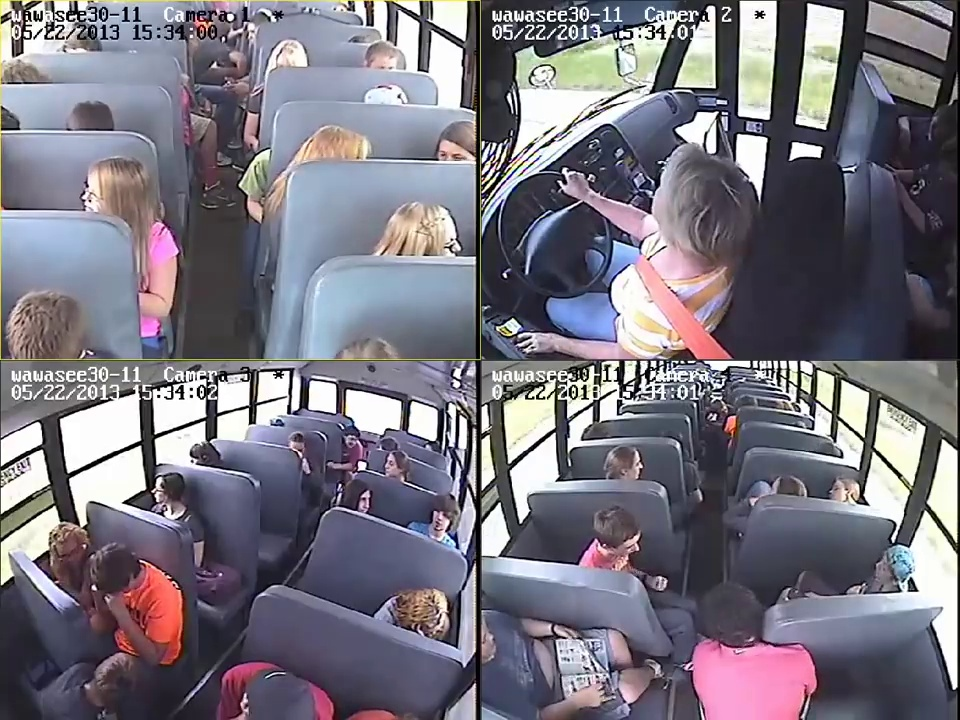face: (81, 172, 117, 216), (428, 215, 461, 255), (52, 534, 85, 567), (609, 529, 643, 561), (439, 132, 469, 164), (623, 446, 645, 480), (152, 476, 171, 509), (351, 487, 373, 511), (432, 503, 450, 531), (384, 452, 398, 477)
